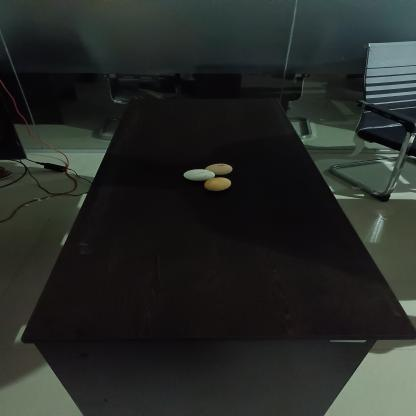egg: (184, 168, 216, 182), (208, 162, 235, 178), (204, 177, 234, 191)
